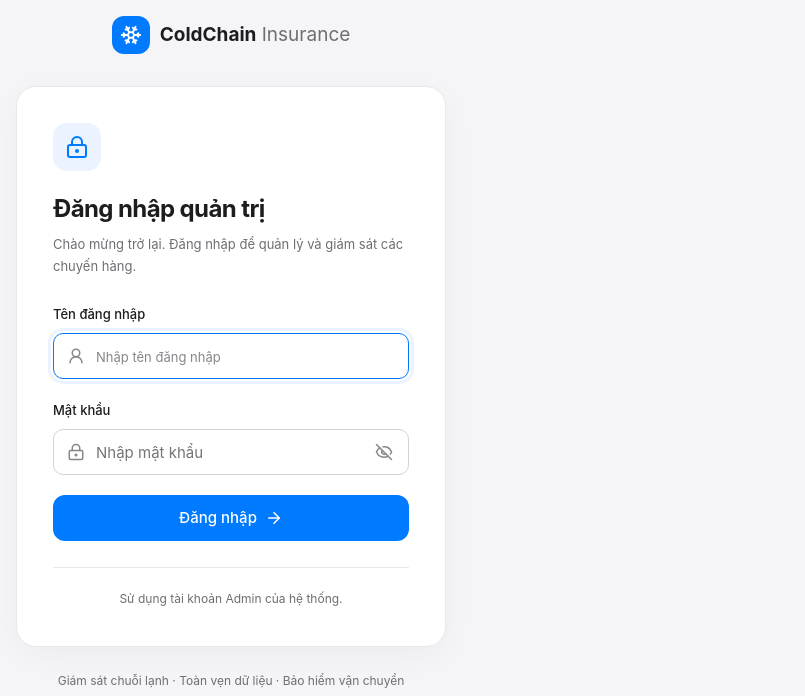
Test: Admin Login and guarded routes › shows incorrect credentials, clears the password, and does not offer extra account flows
The image size is (805, 696).
In the field labelled "Tên đăng nhập": {"x": 231, "y": 356} [53,333,409,379], type "admin"
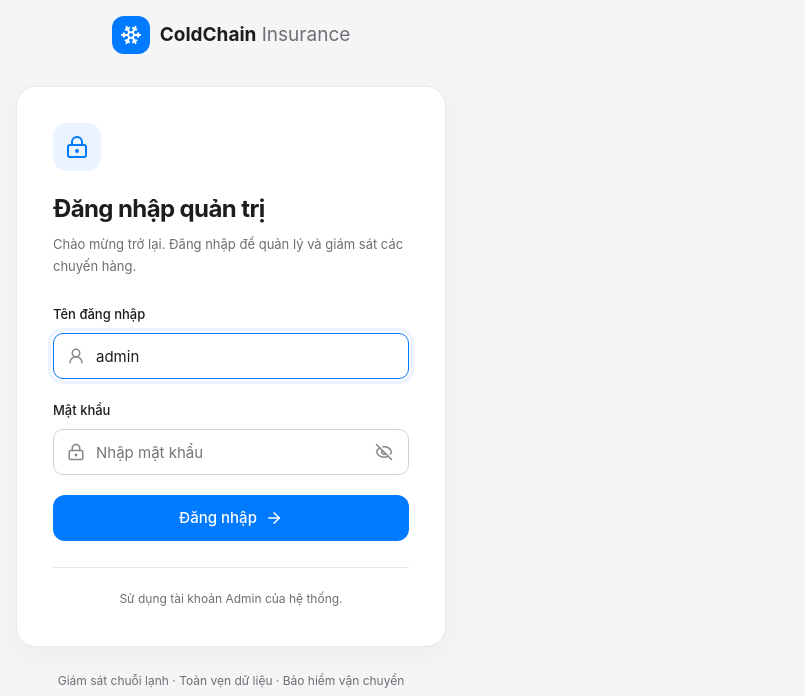
In the password field labelled "Mật khẩu": {"x": 231, "y": 452} [53,429,409,475], type " incorrect-password "
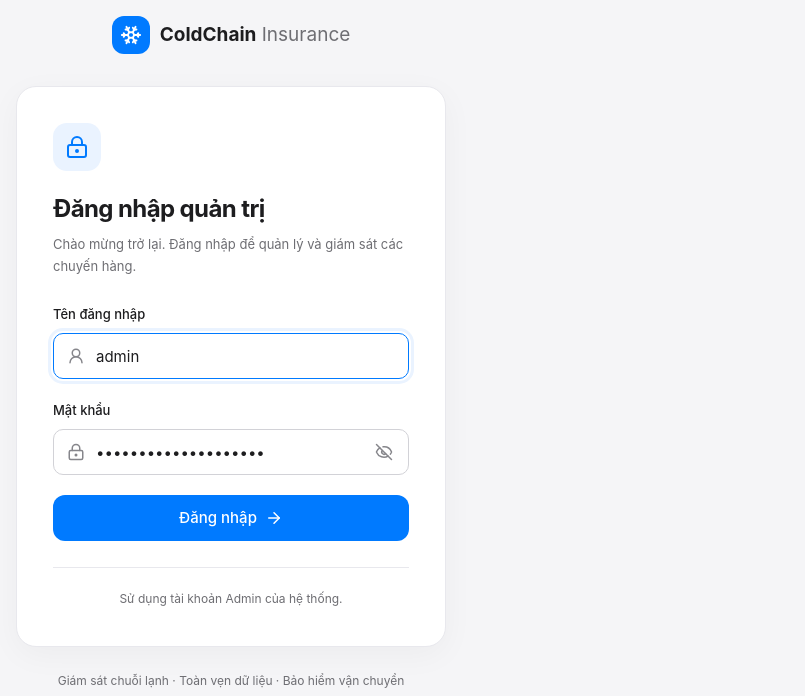
Submit the form "đăng nhập", box [53,303,409,541]
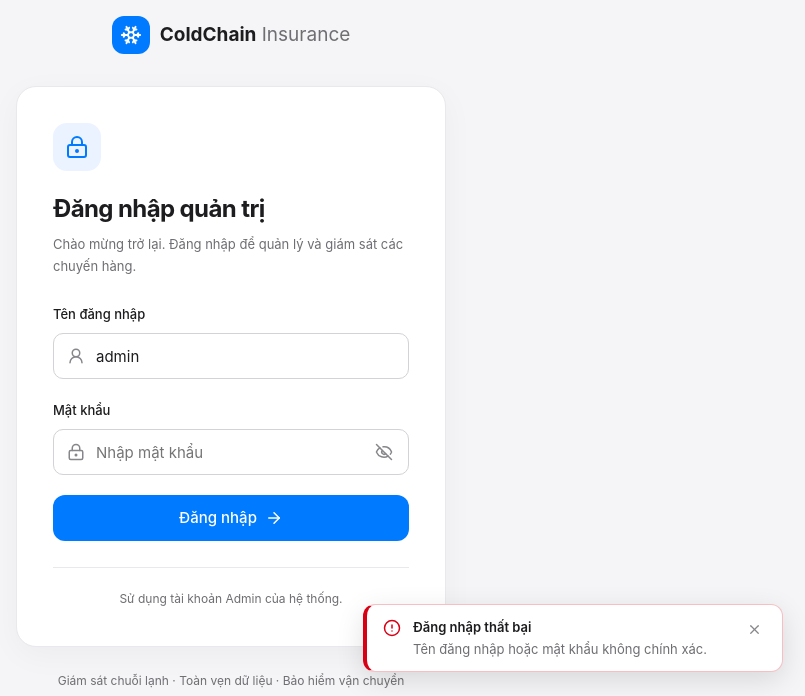
Check: the text "Tên đăng nhập hoặc mật khẩu không chính xác." is shown, box [413,639,727,659]
Check: the password field labelled "Mật khẩu" is empty, box [53,429,409,475]
